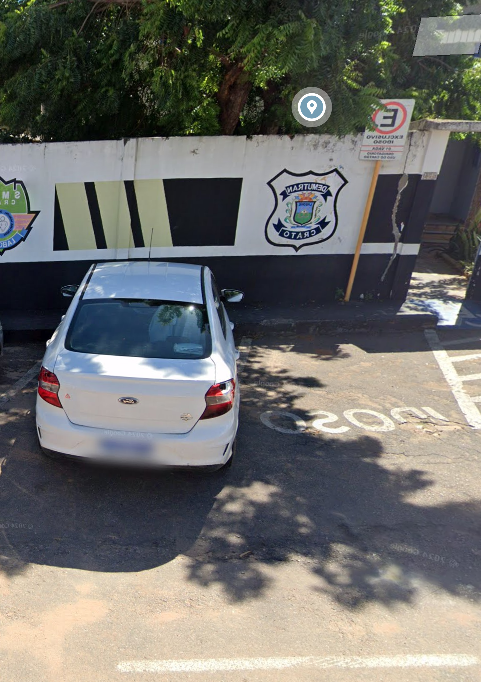car: (27, 226, 263, 484)
